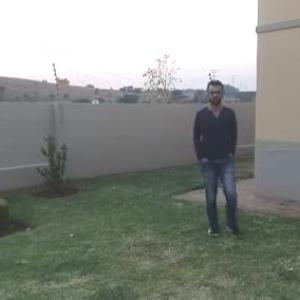follow: (192, 78, 243, 227)
